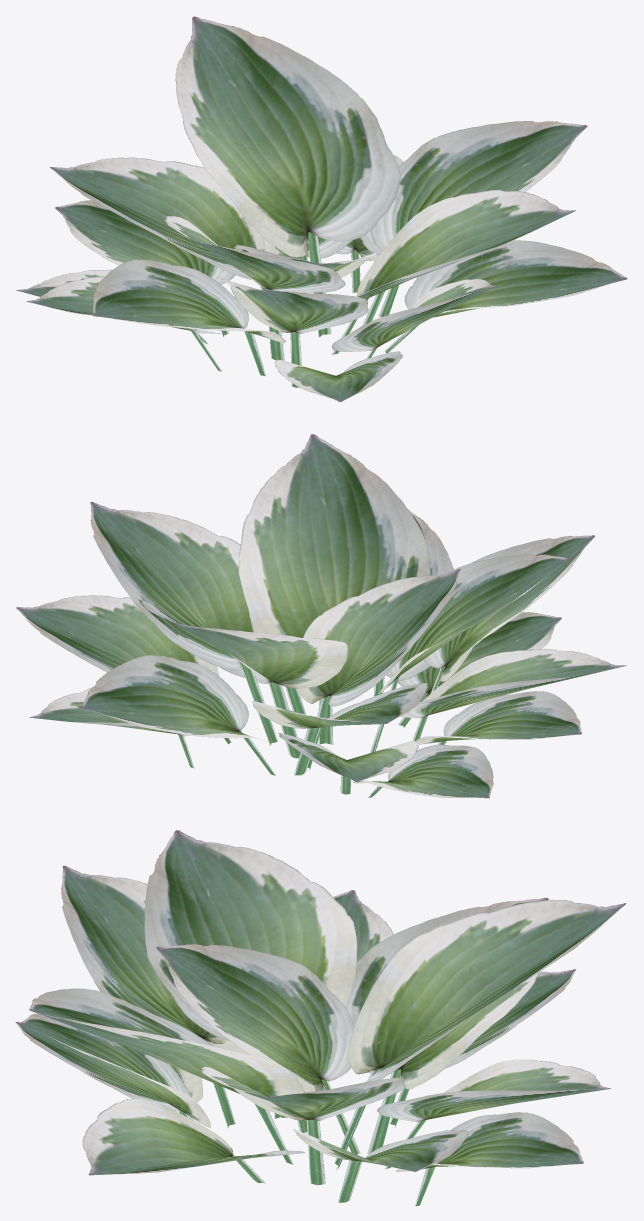
The model's file is plant_small_wg_04J.fbx.
The picture shows the model from 3 angles, top to bottom: view 1: azimuth 30°, elevation 25°; view 2: azimuth 150°, elevation 25°; view 3: azimuth 270°, elevation 25°; orthographic projection. The views are drawn at different scales.
Visible parts, largest first — view 1: plant_small_wg_04J; view 2: plant_small_wg_04J; view 3: plant_small_wg_04J.
Part boxes in pixels (x1,y1,x2,y2): plant_small_wg_04J: [16, 16, 627, 401]; plant_small_wg_04J: [16, 434, 626, 798]; plant_small_wg_04J: [15, 830, 626, 1206].
Size of the model in its own units: 180 by 73.19 by 155.
